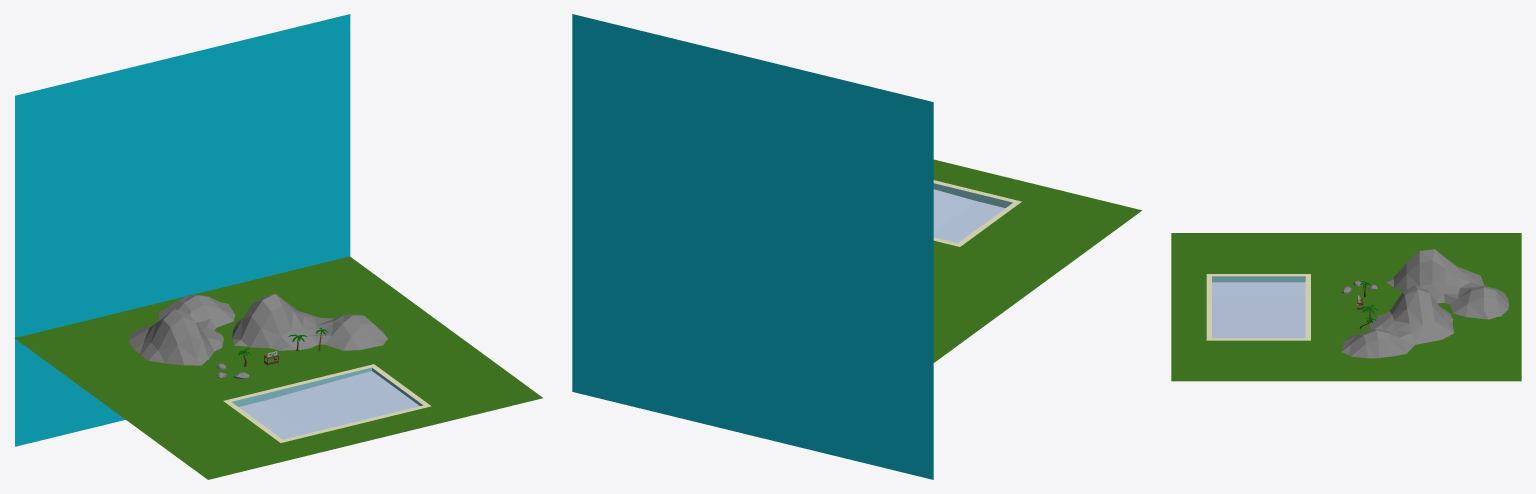
The model's file is JuiceBar_enviro_V2.fbx.
3 views of the same model, side by side, from view 1: azimuth 30°, elevation 25°; view 2: azimuth 150°, elevation 25°; view 3: azimuth 270°, elevation 25° (orthographic). The views are drawn at different scales.
Parts seen in each view (by area): view 1: Plane.001, ground, mountain.001, mountain; view 2: Plane.001, ground; view 3: ground, mountain.001, mountain.
Part boxes in pixels (box(x1,y1,x2,y2)): Plane.001: box(15, 14, 350, 446); ground: box(14, 256, 542, 479); mountain.001: box(232, 293, 387, 350); mountain: box(128, 294, 235, 365); Plane.001: box(572, 14, 933, 479); ground: box(933, 159, 1141, 362); ground: box(1171, 233, 1521, 381); mountain.001: box(1341, 285, 1454, 358); mountain: box(1386, 249, 1509, 319).
Size of the model in its own units: 15020 by 15000 by 15000.
